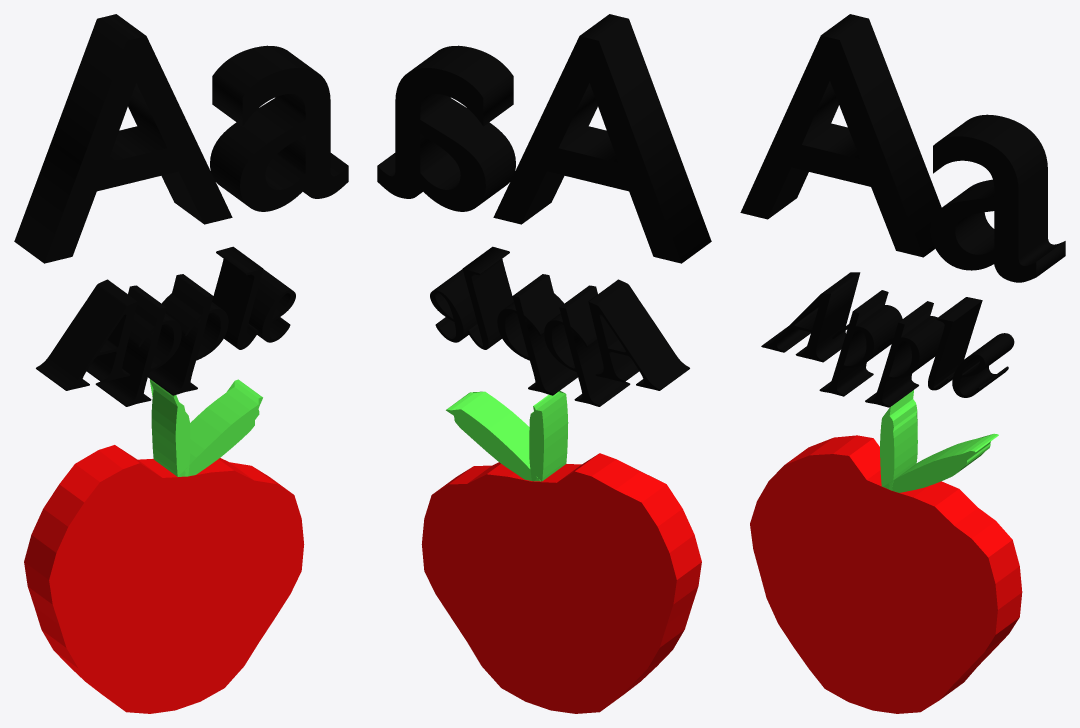
Rendered from Letter_A.glb.
The picture shows the model from 3 angles, left to right: view 1: azimuth 30°, elevation 25°; view 2: azimuth 150°, elevation 25°; view 3: azimuth 330°, elevation 25°; orthographic projection. The views are drawn at different scales.
Parts seen in each view (by area): view 1: Cylinder, Text, Text.001, Cylinder.001; view 2: Cylinder, Text, Text.001, Cylinder.001; view 3: Cylinder, Text, Text.001, Cylinder.001.
Boxes of the visible parts, x1,y1,x2,y2 form: Cylinder: (24, 445, 304, 713); Text: (14, 14, 348, 263); Text.001: (36, 246, 295, 406); Cylinder.001: (150, 379, 262, 476); Cylinder: (421, 453, 701, 713); Text: (377, 14, 711, 263); Text.001: (430, 246, 689, 406); Cylinder.001: (446, 391, 568, 481); Cylinder: (750, 435, 1022, 713); Text: (740, 14, 1065, 282); Text.001: (761, 272, 1014, 407); Cylinder.001: (880, 390, 998, 492).
Size of the model in its own units: 0.7011 by 1.51 by 0.1425.
